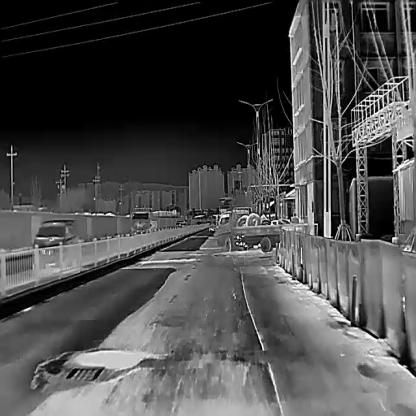car: (32, 219, 81, 268)
truck: (216, 207, 309, 250), (131, 209, 175, 232)
